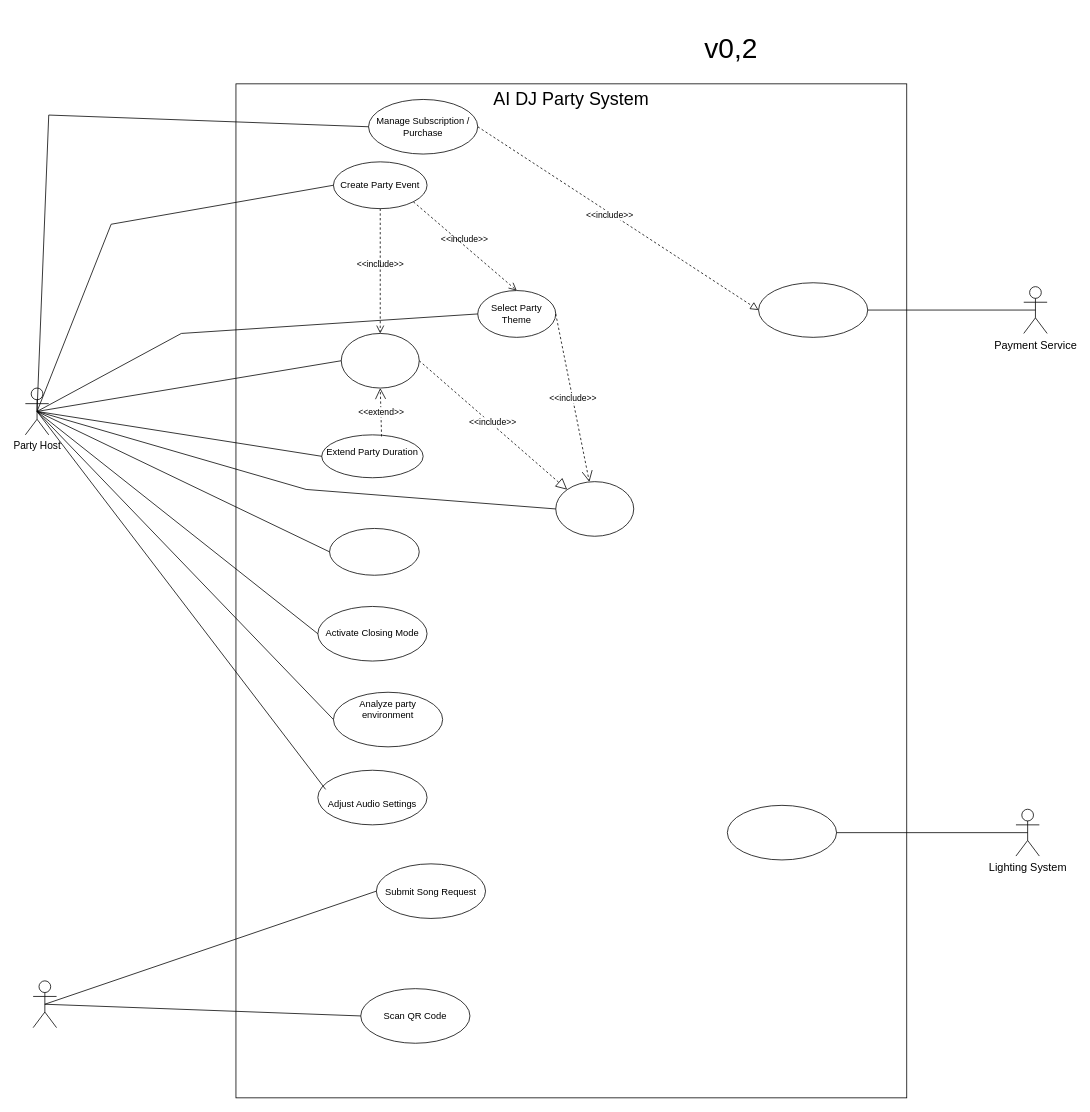
The diagram is 1090 pixels wide and 1112 high, and some of its shapes have lost their labels. The centre of each missing label's shape, as x and y in pixels:
"Generate Playlist" goes at (594,508).
"Modify Playlist" goes at (374,551).
"Party Guests" goes at (44,1004).
"Process Payment" goes at (813,309).
"Set Party Duration" goes at (379,360).
"Sync Lighting With Music" goes at (782,832).
